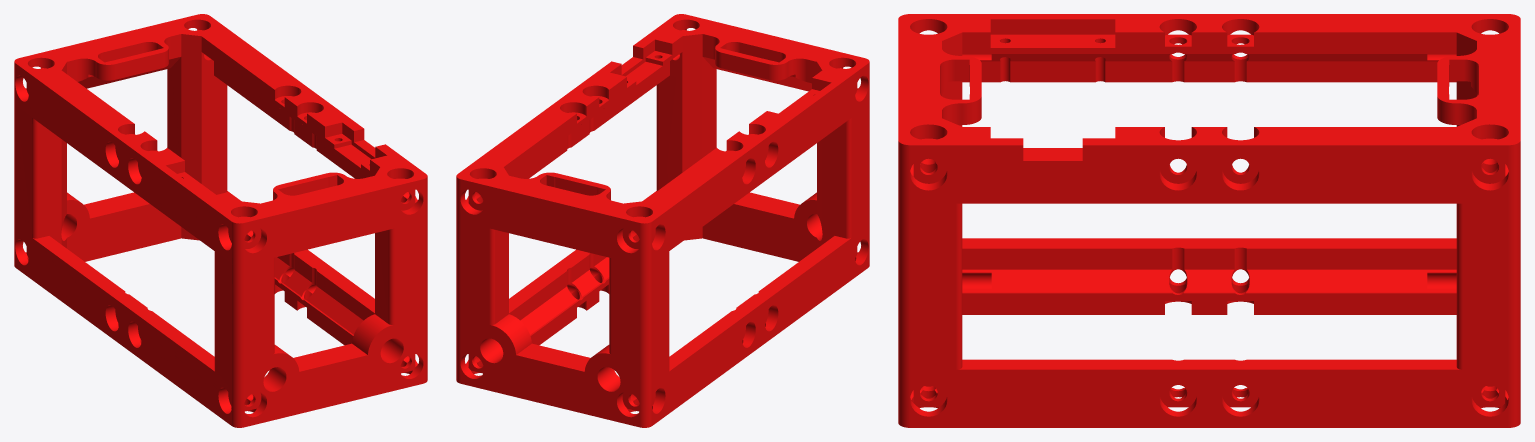
3 views of the same model, side by side, from view 1: azimuth 30°, elevation 25°; view 2: azimuth 150°, elevation 25°; view 3: azimuth 270°, elevation 25° (orthographic). The views are drawn at different scales.
Visible parts, largest first — view 1: Base Cube 2x1; view 2: Base Cube 2x1; view 3: Base Cube 2x1.
Boxes of the visible parts, x1,y1,x2,y2 form: Base Cube 2x1: [14, 14, 427, 427]; Base Cube 2x1: [456, 14, 869, 427]; Base Cube 2x1: [898, 14, 1520, 427].
Size of the model in its own units: 4.98 by 5 by 9.98.
